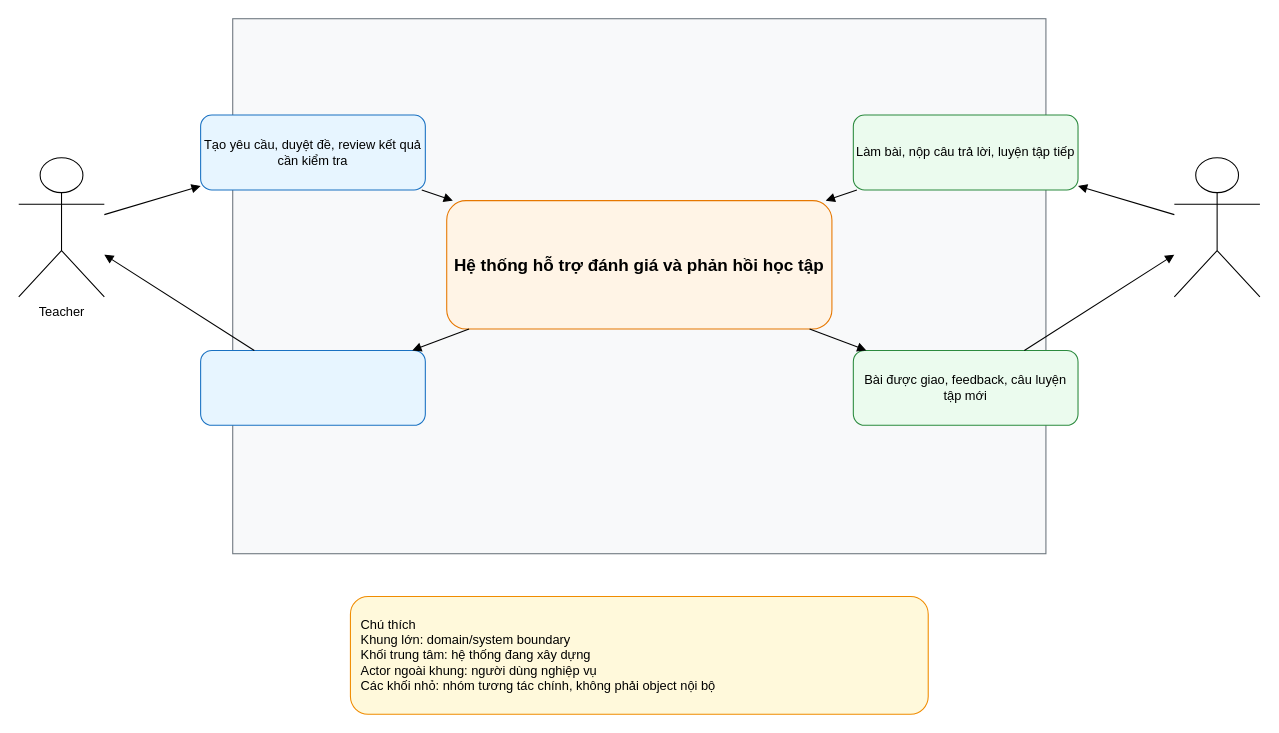
This 1279x733 diagram has some shape labels left out. The box of each missing label's shape, as (x1, y1, x2, y2) in pixels:
Learning Feedback Domain Boundary: (232, 18, 1046, 554)
Student: (1173, 157, 1260, 297)
Đề nháp, kết quả cần review, báo cáo tiến độ: (200, 349, 425, 425)
